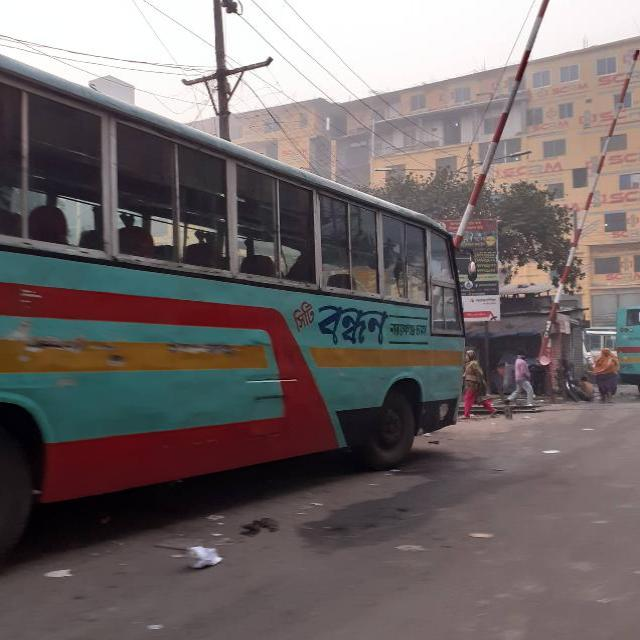Truck: (0, 54, 464, 508), (614, 307, 638, 385)
